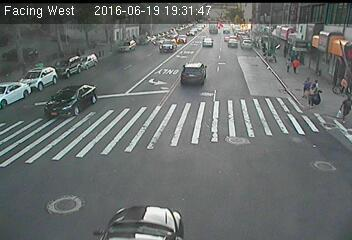neg: (246, 160, 264, 185), (68, 113, 85, 136), (309, 144, 326, 166), (164, 95, 180, 117), (247, 83, 263, 103), (201, 135, 216, 155), (86, 80, 101, 100), (211, 193, 226, 213), (256, 115, 271, 134), (329, 19, 343, 39), (204, 101, 218, 120), (147, 167, 161, 186), (49, 81, 63, 100), (157, 132, 171, 150), (191, 171, 205, 189), (52, 186, 66, 204), (25, 148, 38, 166), (86, 190, 99, 208), (113, 193, 126, 211), (186, 68, 199, 85), (225, 73, 238, 90), (101, 156, 113, 173), (112, 19, 124, 34), (40, 111, 51, 126), (165, 6, 176, 21), (128, 83, 139, 97), (49, 156, 59, 170), (158, 205, 168, 218), (220, 6, 230, 19), (115, 122, 124, 134), (194, 7, 202, 19), (34, 188, 42, 198), (138, 6, 145, 16), (268, 10, 275, 19), (310, 8, 316, 16)
pos: (337, 96, 351, 124), (307, 83, 324, 105), (338, 73, 351, 93), (291, 57, 303, 73), (283, 56, 293, 70)
